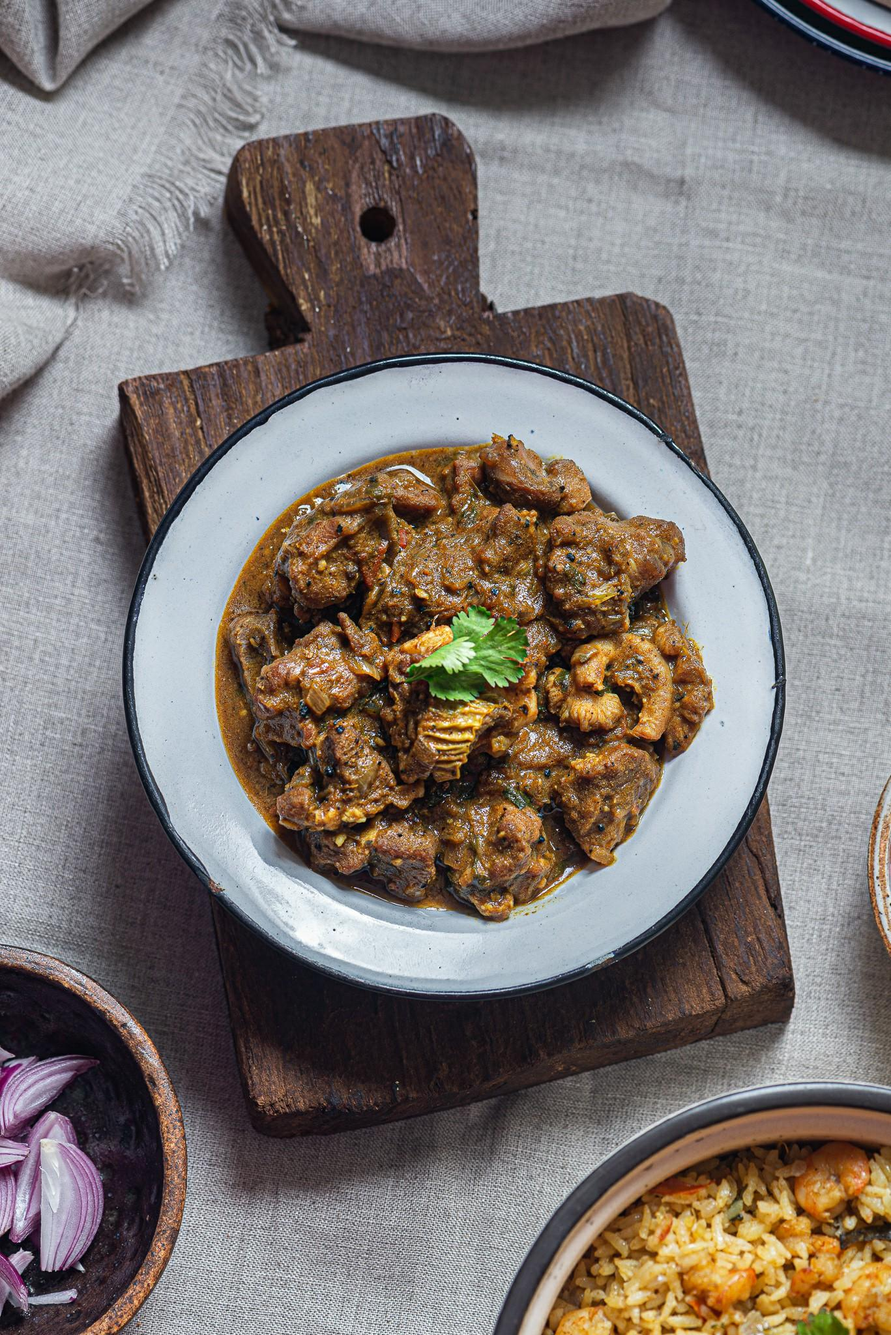MuttonCurry: (206, 443, 709, 922)
